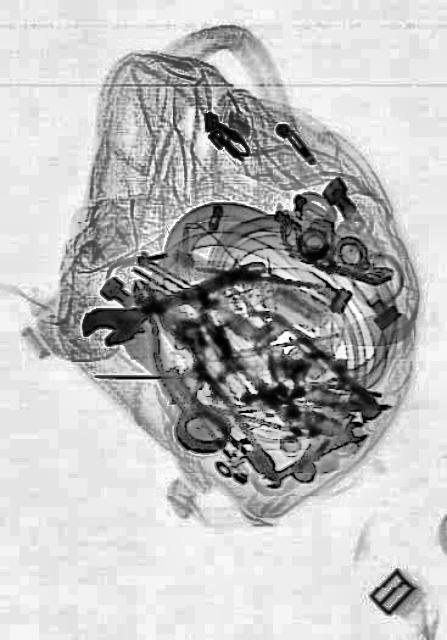Pliers: (174, 351, 286, 489), (115, 262, 215, 414)
Wrench: (78, 241, 268, 357), (260, 416, 368, 492)
